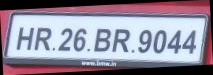character: (15, 26, 34, 51), (111, 28, 130, 52), (93, 28, 111, 52), (34, 26, 50, 51), (56, 27, 72, 52), (72, 27, 87, 52), (167, 29, 182, 53), (181, 29, 196, 53), (137, 29, 151, 53), (153, 29, 166, 54)
